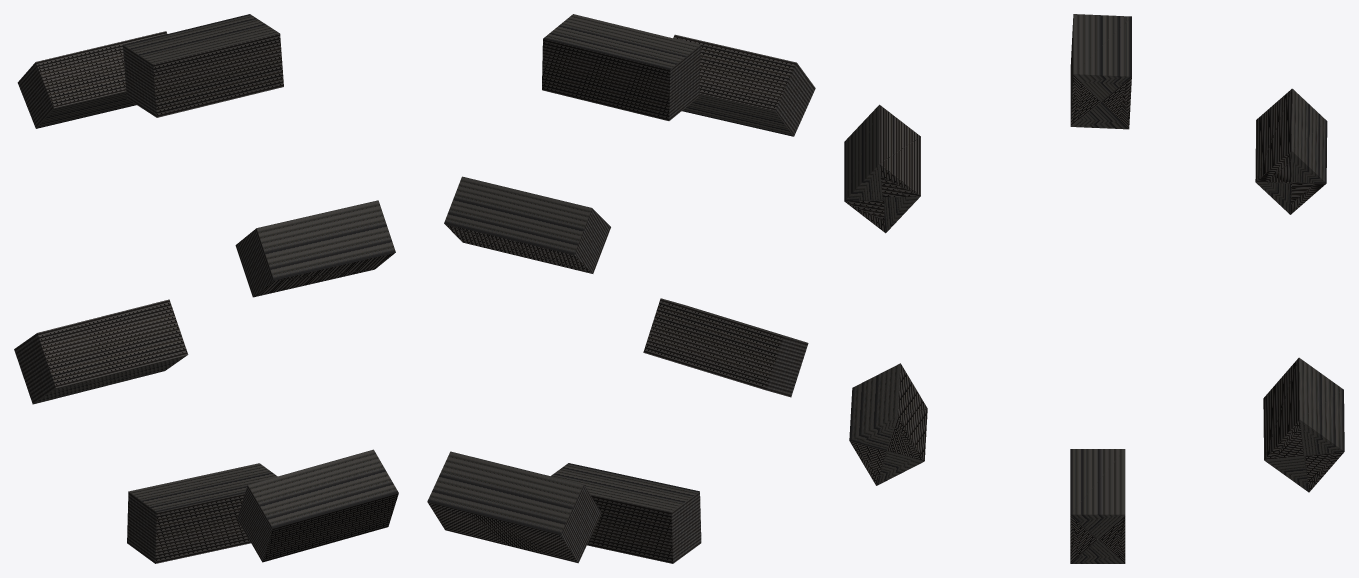
The model's file is thermo.obj.
3 renders of one model, left to right at view 1: azimuth 30°, elevation 25°; view 2: azimuth 150°, elevation 25°; view 3: azimuth 270°, elevation 25°, orthographic. The views are drawn at different scales.
Visible parts, largest first — view 1: Плоскость; view 2: Плоскость; view 3: Плоскость.
Part boxes in pixels (<box>): Плоскость: <box>14,14,398,563</box>; Плоскость: <box>427,14,815,563</box>; Плоскость: <box>844,14,1344,563</box>.
Size of the model in its own units: 0.1035 by 0.3574 by 0.3325.
1 material, 1 textured.
